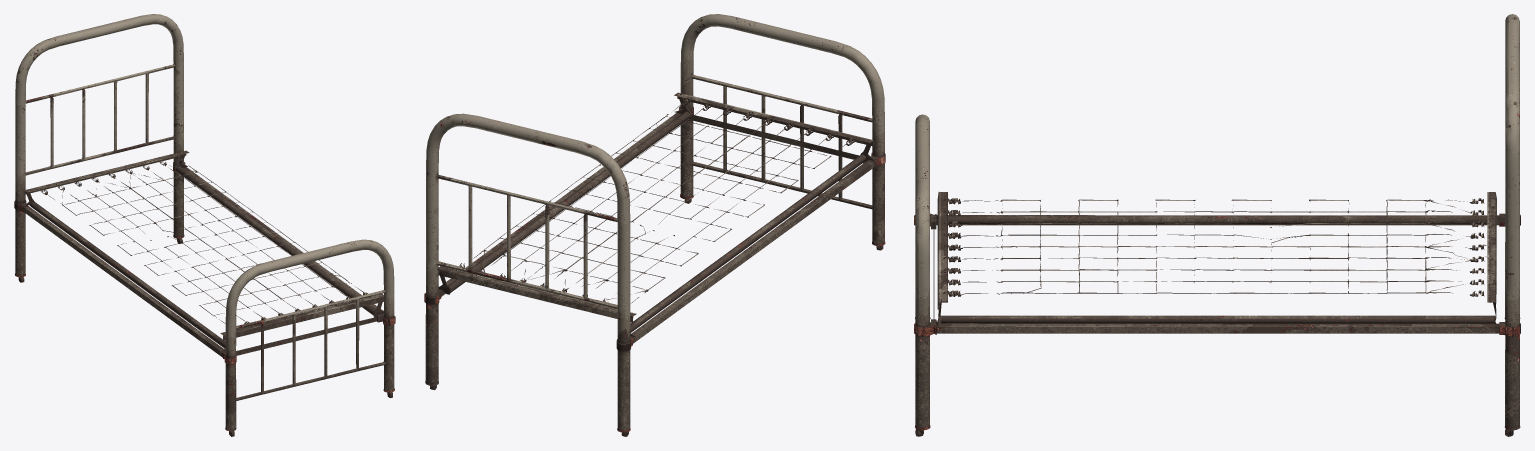
The model's file is old_bed_frame.glb.
The picture shows the model from 3 angles, left to right: view 1: azimuth 30°, elevation 25°; view 2: azimuth 150°, elevation 25°; view 3: azimuth 270°, elevation 25°; orthographic projection. The views are drawn at different scales.
Parts seen in each view (by area): view 1: body; view 2: body; view 3: body.
Boxes of the visible parts, left/top/right/bottom form: body: left=14, top=14, right=395, bottom=436; body: left=424, top=14, right=885, bottom=436; body: left=914, top=14, right=1520, bottom=436.
Size of the model in its own units: 0.9005 by 1.2 by 2.
Materials: 1 (1 with a texture image).
